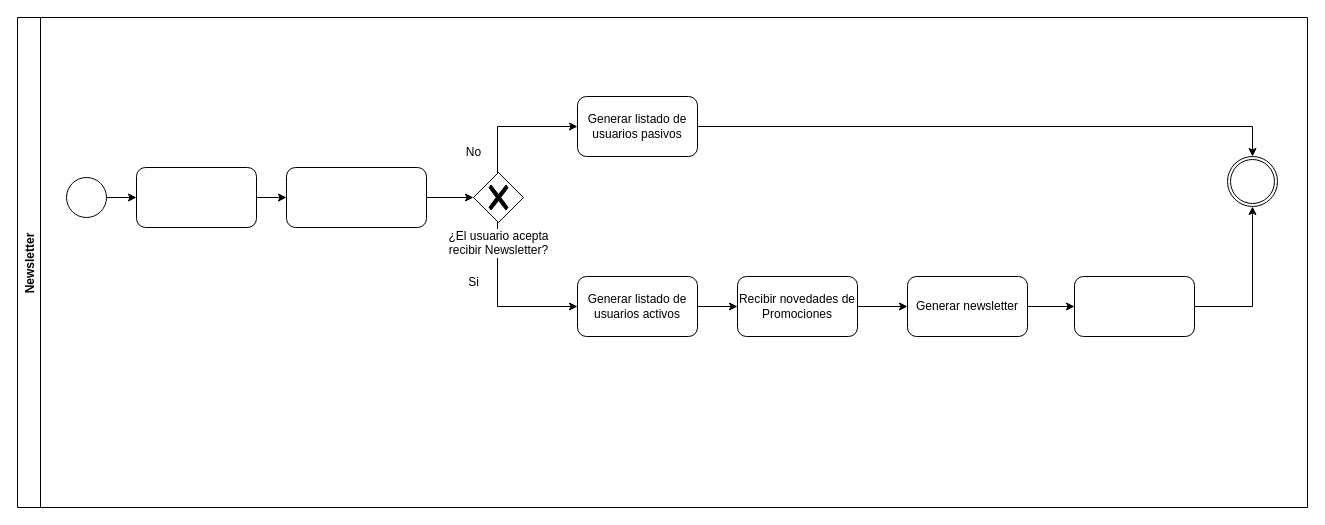
The diagram is 1325 pixels wide and 525 high, and some of its shapes have lost their labels. The shapes that lost their labels are listed below. From the top down, each one's centre as x and y in pixels, then its label:
(x=196, y=197): Recibir listado de usuarios por parte de Manejo de Usuario
(x=356, y=197): Verificar estado del Usuario
(x=1134, y=306): Enviar newsletter a activos
